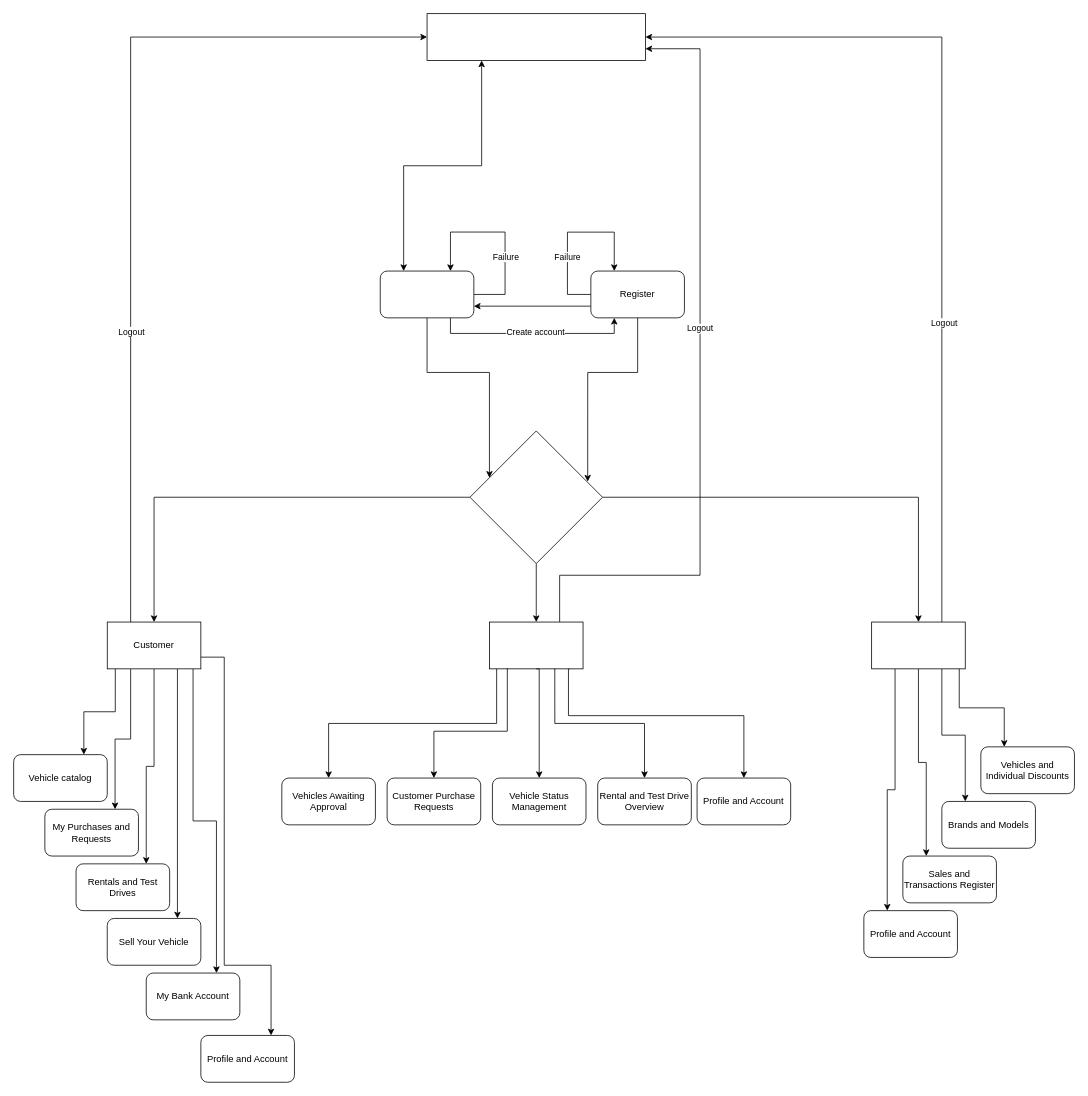
The diagram is 1088 pixels wide and 1096 high, and some of its shapes have lost their labels. Each missing label, with the centre of its shape:
Authenticated User Role: [536,497]
Login: [426,294]
Manager: [918,645]
Salesman: [536,645]
Welcome Page: [535,36]
